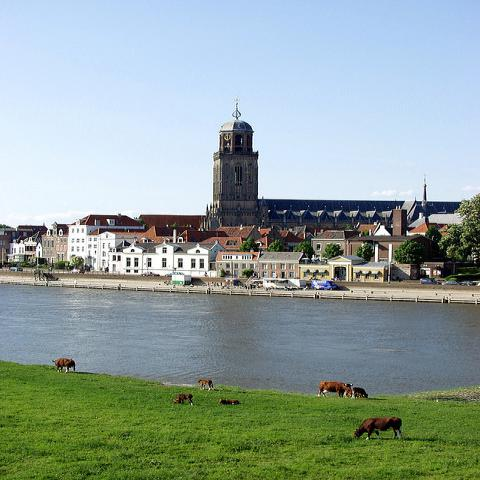car: (311, 280, 339, 290), (420, 278, 442, 284), (139, 271, 160, 277), (441, 280, 461, 286), (8, 267, 24, 272), (165, 273, 174, 277)
truck: (262, 278, 306, 290), (309, 279, 338, 290), (420, 278, 440, 284)
